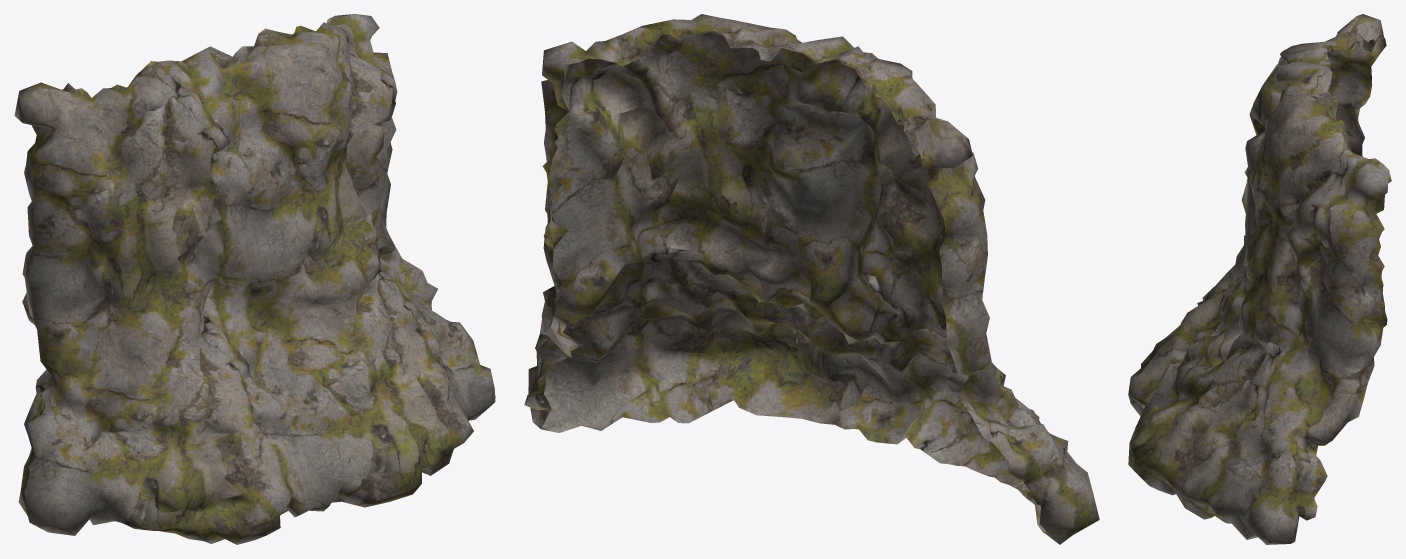
3 renders of one model, left to right at view 1: azimuth 30°, elevation 25°; view 2: azimuth 150°, elevation 25°; view 3: azimuth 270°, elevation 25°, orthographic. The views are drawn at different scales.
Visible parts, largest first — view 1: Cube.058; view 2: Cube.058; view 3: Cube.058.
Boxes of the visible parts, bbox=[...] form: Cube.058: bbox=[14, 14, 495, 544]; Cube.058: bbox=[524, 14, 1099, 544]; Cube.058: bbox=[1128, 14, 1391, 544].
Bounding box in the file's own units: 45.89 × 38.01 × 23.77.
1 material, 1 textured.
